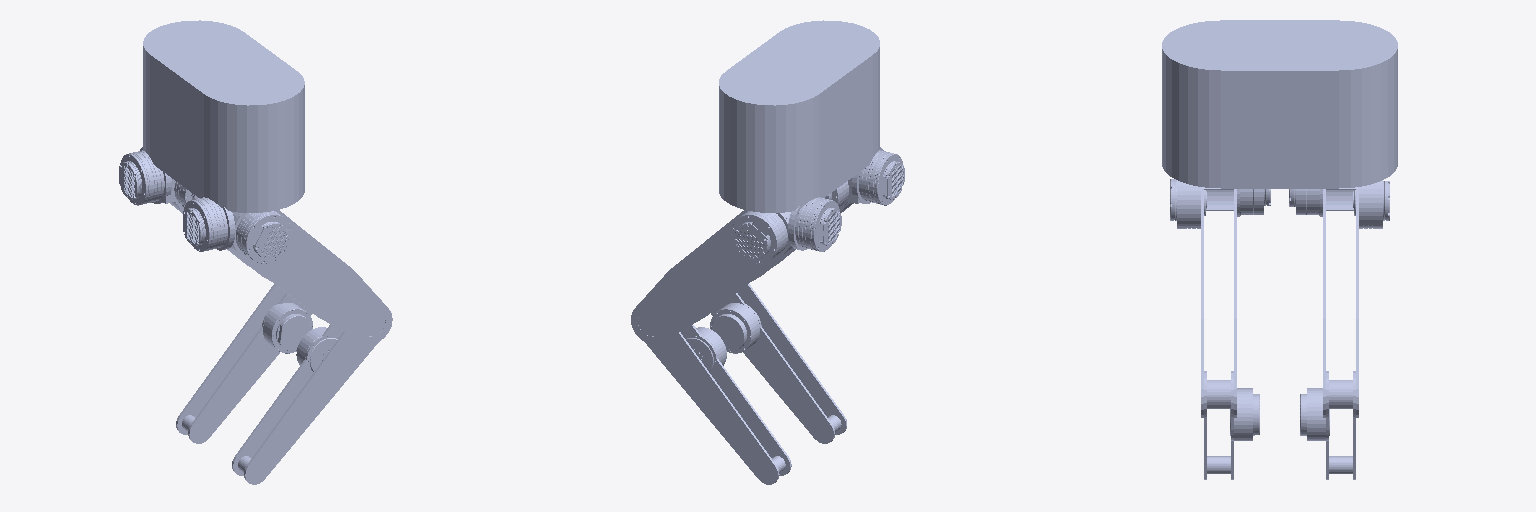
robot.urdf — hr:
<?xml version="1.0" encoding="utf-8"?>
<!-- This URDF was automatically created by SolidWorks to URDF Exporter! Originally created by [author] ([email redacted]) 
     Commit Version: 1.6.0-4-g7f85cfe  Build Version: 1.6.7995.38578
     For more information, please see http://wiki.ros.org/sw_urdf_exporter -->
<robot
  name="hr">
  <link
    name="base">
    <inertial>
      <origin
        xyz="-0.0044317 0.00063769 0.078449"
        rpy="0 0 0" />
      <mass
        value="13" />
      <inertia
        ixx="0.21138"
        ixy="2.665E-05"
        ixz="0.00060204"
        iyy="0.097207"
        iyz="-0.00098535"
        izz="0.20454" />
    </inertial>
    <visual>
      <origin
        xyz="0 0 0"
        rpy="0 0 0" />
      <geometry>
        <mesh
          filename="meshes/base.STL" />
      </geometry>
      <material
        name="">
        <color
          rgba="0.79216 0.81961 0.93333 1" />
      </material>
    </visual>
    <collision>
      <origin
        xyz="0 0 0.125"
        rpy="0 0 0" />
          <geometry>
              <box size="0.2 0.38 0.21"/>
          </geometry>
    </collision>
  </link>
  <link
    name="L_hip">
    <inertial>
      <origin
        xyz="-0.076147 -0.000144 -0.056058"
        rpy="0 0 0" />
      <mass
        value="1.5262" />
      <inertia
        ixx="0.004624"
        ixy="-1.063E-05"
        ixz="-0.0016518"
        iyy="0.0052931"
        iyz="-6.3E-06"
        izz="0.0033533" />
    </inertial>
    <visual>
      <origin
        xyz="0 0 0"
        rpy="0 0 0" />
      <geometry>
        <mesh
          filename="meshes/L_hip.STL" />
      </geometry>
      <material
        name="">
        <color
          rgba="0.79216 0.81961 0.93333 1" />
      </material>
    </visual>
    <!-- <collision>
      <origin
        xyz="0 0 0"
        rpy="0 0 0" />
      <geometry>
        <mesh
          filename="meshes/L_hip.STL" />
      </geometry>
    </collision> -->
  </link>
  <joint
    name="L_hip_joint"
    type="revolute">
    <origin
      xyz="-0.0053471 0.1175 -0.0067"
      rpy="0 0 0" />
    <parent
      link="base" />
    <child
      link="L_hip" />
    <axis
      xyz="0 0 1" />
    <limit
      lower="-1.5"
      upper="1.5"
      effort="300"
      velocity="50" />
  </joint>
  <link
    name="L_hip2">
    <inertial>
      <origin
        xyz="0.065812 -0.057927 -0.015122"
        rpy="0 0 0" />
      <mass
        value="1.33325" />
      <inertia
        ixx="0.00218586"
        ixy="0.00063143"
        ixz="0.00025969"
        iyy="0.00331254"
        iyz="-0.0001735"
        izz="0.00291067" />
    </inertial>
    <visual>
      <origin
        xyz="0 0 0"
        rpy="0 0 0" />
      <geometry>
        <mesh
          filename="meshes/L_hip2.STL" />
      </geometry>
      <material
        name="">
        <color
          rgba="0.79216 0.81961 0.93333 1" />
      </material>
    </visual>
    <!-- <collision>
      <origin
        xyz="0 0 0"
        rpy="0 0 0" />
      <geometry>
        <mesh
          filename="meshes/L_hip2.STL" />
      </geometry>
    </collision> -->
  </link>
  <joint
    name="L_hip2_joint"
    type="revolute">
    <origin
      xyz="-0.0763 0 -0.084"
      rpy="0 0 0" />
    <parent
      link="L_hip" />
    <child
      link="L_hip2" />
    <axis
      xyz="1 0 0" />
    <limit
      lower="-0.5"
      upper="0.65"
      effort="300"
      velocity="50" />
  </joint>
  <link
    name="L_thigh">
    <inertial>
      <origin
        xyz="-2.011E-05 0.019927 -0.086535"
        rpy="0 0 0" />
      <mass
        value="4.91" />
      <inertia
        ixx="0.078865"
        ixy="-3.8E-07"
        ixz="8.53E-06"
        iyy="0.079352"
        iyz="-0.0022097"
        izz="0.0098034" />
    </inertial>
    <visual>
      <origin
        xyz="0 0 0"
        rpy="0 0 0" />
      <geometry>
        <mesh
          filename="meshes/L_thigh.STL" />
      </geometry>
      <material
        name="">
        <color
          rgba="0.79216 0.81961 0.93333 1" />
      </material>
    </visual>
    <!-- <collision>
      <origin
        xyz="0 0 0"
        rpy="0 0 0" />
      <geometry>
        <mesh
          filename="meshes/L_thigh.STL" />
      </geometry>
    </collision> -->
  </link>
  <joint
    name="L_thigh_joint"
    type="revolute">
    <origin
      xyz="0.078 -0.014084 -0.0185"
      rpy="0 -0.785398163 0" />
    <parent
      link="L_hip2" />
    <child
      link="L_thigh" />
    <axis
      xyz="0 1 0" />
    <limit
      lower="-2.05"
      upper="0"
      effort="300"
      velocity="50" />
  </joint>
  <link
    name="L_calf">
    <inertial>
      <origin
        xyz="7.1556E-05 0.01631 -0.076065"
        rpy="0 0 0" />
      <mass
        value="1.5" />
      <inertia
        ixx="0.014852"
        ixy="-9E-08"
        ixz="-5.83E-06"
        iyy="0.01532"
        iyz="-5.33E-06"
        izz="0.001003" />
    </inertial>
    <visual>
      <origin
        xyz="0 0 0"
        rpy="0 0 0" />
      <geometry>
        <mesh
          filename="meshes/L_calf.STL" />
      </geometry>
      <material
        name="">
        <color
          rgba="0.79216 0.81961 0.93333 1" />
      </material>
    </visual>
    <!-- <collision>
      <origin
        xyz="0 0 0"
        rpy="0 0 0" />
      <geometry>
        <mesh
          filename="meshes/L_calf.STL" />
      </geometry>
    </collision> -->
  </link>
  <joint
    name="L_calf_joint"
    type="revolute">
    <origin
      xyz="0 0 -0.35"
      rpy="0 1.57079632679 0" />
    <parent
      link="L_thigh" />
    <child
      link="L_calf" />
    <axis
      xyz="0 1 0" />
    <limit
      lower="0"
      upper="2.1"
      effort="300"
      velocity="50" />
  </joint>
  <link
    name="L_toe">
    <inertial>
      <origin
        xyz="0.01468 0.015514 -0.035597"
        rpy="0 0 0" />
      <mass
        value="0.52014" />
      <inertia
        ixx="0.00014231"
        ixy="5.2E-07"
        ixz="2.557E-05"
        iyy="0.0016205"
        iyz="-5E-08"
        izz="0.0016853" />
    </inertial>
    <visual>
      <origin
        xyz="0 0 0"
        rpy="0 0 0" />
      <geometry>
        <mesh
          filename="meshes/L_toe.STL" />
      </geometry>
      <material
        name="">
        <color
          rgba="0.79216 0.81961 0.93333 1" />
      </material>
    </visual>
    <collision>
      <origin
        xyz="0 0 0"
        rpy="0 0 0" />
      <geometry>
        <mesh
          filename="meshes/L_toe.STL" />
      </geometry>
    </collision>
  </link>
  <joint
    name="L_toe_joint"
    type="revolute">
    <origin
      xyz="0 0 -0.35"
      rpy="0 -0.78539816339 0" />
    <parent
      link="L_calf" />
    <child
      link="L_toe" />
    <axis
      xyz="0 1 0" />
    <limit
      lower="-0.8"
      upper="0.8"
      effort="100"
      velocity="50" />
  </joint>
  <link name="L_end_effector">
    <visual>
      <origin xyz="0 0 0" rpy="0 0 0" />
      <geometry>
        <sphere radius="0.0001" />
      </geometry>
      <material name=""> 
        <color rgba="0 0 0 0" />
      </material>
    </visual>
  </link>
  <joint name="L_end_joint"
    type="fixed">
    <origin
      xyz="0 0 -0.049"
      rpy="0 0 0" />
    <parent
      link="L_toe" />
    <child
      link="L_end_effector" />
    <axis
      xyz="0 0 0" />
    <limit
      lower="0"
      upper="0"
      effort="0"
      velocity="0" />
  </joint>
  <link
    name="R_hip">
    <inertial>
      <origin
        xyz="-0.076147 -0.000144 -0.056058"
        rpy="0 0 0" />
      <mass
        value="1.5262" />
      <inertia
        ixx="0.004624"
        ixy="-1.063E-05"
        ixz="-0.0016518"
        iyy="0.0052931"
        iyz="-6.3E-06"
        izz="0.0033533" />
    </inertial>
    <visual>
      <origin
        xyz="0 0 0"
        rpy="0 0 0" />
      <geometry>
        <mesh
          filename="meshes/R_hip.STL" />
      </geometry>
      <material
        name="">
        <color
          rgba="0.79216 0.81961 0.93333 1" />
      </material>
    </visual>
    <!-- <collision>
      <origin
        xyz="0 0 0"
        rpy="0 0 0" />
      <geometry>
        <mesh
          filename="meshes/R_hip.STL" />
      </geometry>
    </collision> -->
  </link>
  <joint
    name="R_hip_joint"
    type="revolute">
    <origin
      xyz="-0.0053471 -0.1175 -0.0067"
      rpy="0 0 0" />
    <parent
      link="base" />
    <child
      link="R_hip" />
    <axis
      xyz="0 0 1" />
    <limit
      lower="-1.5"
      upper="1.5"
      effort="300"
      velocity="50" />
  </joint>
  <link
    name="R_hip2">
    <inertial>
      <origin
        xyz="0.065812 0.057927 -0.015122"
        rpy="0 0 0" />
      <mass
        value="1.33325" />
      <inertia
        ixx="0.00218586"
        ixy="-0.0006314"
        ixz="0.00026006"
        iyy="0.00331252"
        iyz="0.0001735"
        izz="0.00291066" />
    </inertial>
    <visual>
      <origin
        xyz="0 0 0"
        rpy="0 0 0" />
      <geometry>
        <mesh
          filename="meshes/R_hip2.STL" />
      </geometry>
      <material
        name="">
        <color
          rgba="0.79216 0.81961 0.93333 1" />
      </material>
    </visual>
    <!-- <collision>
      <origin
        xyz="0 0 0"
        rpy="0 0 0" />
      <geometry>
        <mesh
          filename="meshes/R_hip2.STL" />
      </geometry>
    </collision> -->
  </link>
  <joint
    name="R_hip2_joint"
    type="revolute">
    <origin
      xyz="-0.0763 0 -0.084"
      rpy="0 0 0" />
    <parent
      link="R_hip" />
    <child
      link="R_hip2" />
    <axis
      xyz="1 0 0" />
    <limit
      lower="-0.65"
      upper="0.5"
      effort="300"
      velocity="50" />
  </joint>
  <link
    name="R_thigh">
    <inertial>
      <origin
        xyz="2.011E-05 -0.019927 -0.086535"
        rpy="0 0 0" />
      <mass
        value="4.91" />
      <inertia
        ixx="0.07886454"
        ixy="-3.8E-07"
        ixz="-8.53E-06"
        iyy="0.07935199"
        iyz="0.00220965"
        izz="0.00980338" />
    </inertial>
    <visual>
      <origin
        xyz="0 0 0"
        rpy="0 0 0" />
      <geometry>
        <mesh
          filename="meshes/R_thigh.STL" />
      </geometry>
      <material
        name="">
        <color
          rgba="0.79216 0.81961 0.93333 1" />
      </material>
    </visual>
    <!-- <collision>
      <origin
        xyz="0 0 0"
        rpy="0 0 0" />
      <geometry>
        <mesh
          filename="meshes/R_thigh.STL" />
      </geometry>
    </collision> -->
  </link>
  <joint
    name="R_thigh_joint"
    type="revolute">
    <origin
      xyz="0.078 0.014084 -0.0185"
      rpy="0 -0.785398163 0" />
    <parent
      link="R_hip2" />
    <child
      link="R_thigh" />
    <axis
      xyz="0 1 0" />
    <limit
      lower="-2.05"
      upper="0"
      effort="300"
      velocity="50" />
  </joint>
  <link
    name="R_calf">
    <inertial>
      <origin
        xyz="-7.1556E-05 -0.01631 -0.076065"
        rpy="0 0 0" />
      <mass
        value="1.5" />
      <inertia
        ixx="0.014852"
        ixy="-9E-08"
        ixz="5.83E-06"
        iyy="0.01532"
        iyz="5.33E-06"
        izz="0.001003" />
    </inertial>
    <visual>
      <origin
        xyz="0 0 0"
        rpy="0 0 0" />
      <geometry>
        <mesh
          filename="meshes/R_calf.STL" />
      </geometry>
      <material
        name="">
        <color
          rgba="0.79216 0.81961 0.93333 1" />
      </material>
    </visual>
    <!-- <collision>
      <origin
        xyz="0 0 0"
        rpy="0 0 0" />
      <geometry>
        <mesh
          filename="meshes/R_calf.STL" />
      </geometry>
    </collision> -->
  </link>
  <joint
    name="R_calf_joint"
    type="revolute">
    <origin
      xyz="0 0 -0.35"
      rpy="0 1.57079632679 0" />
    <parent
      link="R_thigh" />
    <child
      link="R_calf" />
    <axis
      xyz="0 1 0" />
    <limit
      lower="0"
      upper="2.1"
      effort="300"
      velocity="50" />
  </joint>
  <link
    name="R_toe">
    <inertial>
      <origin
        xyz="0.01468 -0.015514 -0.035597"
        rpy="0 0 0" />
      <mass
        value="0.52014" />
      <inertia
        ixx="0.00014231"
        ixy="5.2E-07"
        ixz="2.557E-05"
        iyy="0.0016205"
        iyz="-5E-08"
        izz="0.0016853" />
    </inertial>
    <visual>
      <origin
        xyz="0 0 0"
        rpy="0 0 0" />
      <geometry>
        <mesh
          filename="meshes/R_toe.STL" />
      </geometry>
      <material
        name="">
        <color
          rgba="0.79216 0.81961 0.93333 1" />
      </material>
    </visual>
    <collision>
      <origin
        xyz="0 0 0"
        rpy="0 0 0" />
      <geometry>
        <mesh
          filename="meshes/R_toe.STL" />
      </geometry>
    </collision>
  </link>
  <joint
    name="R_toe_joint"
    type="revolute">
    <origin
      xyz="0 0 -0.35"
      rpy="0 -0.78539816339 0" />
    <parent
      link="R_calf" />
    <child
      link="R_toe" />
    <axis
      xyz="0 1 0" />
    <limit
      lower="-0.8"
      upper="0.8"
      effort="100"
      velocity="50" />
  </joint>
  <link name="R_end_effector">
    <visual>
      <origin xyz="0 0 0" rpy="0 0 0" />
      <geometry>
        <sphere radius="0.0001" />
      </geometry>
      <material name=""> 
        <color rgba="0 0 0 0" />
      </material>
    </visual>
  </link>
  <joint name="R_end_joint"
    type="fixed">
    <origin
      xyz="0 0 -0.049"
      rpy="0 0 0" />
    <parent
      link="R_toe" />
    <child
      link="R_end_effector" />
    <axis
      xyz="0 0 0" />
    <limit
      lower="0"
      upper="0"
      effort="0"
      velocity="0" />
  </joint>
</robot>

--- Facts derived from the render (not from the file) ---
Views: 3 orthographic renders of the robot side by side, from view 1: azimuth 30°, elevation 25°; view 2: azimuth 150°, elevation 25°; view 3: azimuth 270°, elevation 25°.
Model hr with 13 links and 12 joints (10 revolute, 2 fixed), rooted at base, posed all joints at 0.
Visible links, largest first — view 1: base, R_thigh, R_calf, L_calf, R_hip, L_hip; view 2: base, L_thigh, L_calf, R_calf, L_hip, R_hip; view 3: base, R_thigh, L_thigh, L_calf, R_calf, L_hip2, R_hip2.
Link boxes in pixels (x1=…): base: x1=143, y1=20, x2=304, y2=212; R_thigh: x1=231, y1=210, x2=392, y2=343; R_calf: x1=232, y1=324, x2=378, y2=484; L_calf: x1=176, y1=284, x2=312, y2=443; R_hip: x1=183, y1=197, x2=234, y2=251; L_hip: x1=119, y1=147, x2=171, y2=205; base: x1=719, y1=20, x2=879, y2=212; L_thigh: x1=631, y1=210, x2=792, y2=343; L_calf: x1=645, y1=325, x2=791, y2=484; R_calf: x1=710, y1=284, x2=846, y2=443; L_hip: x1=788, y1=197, x2=841, y2=251; R_hip: x1=851, y1=147, x2=904, y2=205; base: x1=1162, y1=20, x2=1397, y2=188; R_thigh: x1=1170, y1=179, x2=1240, y2=417; L_thigh: x1=1319, y1=180, x2=1389, y2=417; L_calf: x1=1300, y1=371, x2=1355, y2=479; R_calf: x1=1204, y1=371, x2=1259, y2=479; L_hip2: x1=1289, y1=189, x2=1322, y2=216; R_hip2: x1=1237, y1=189, x2=1270, y2=216.
Bounding box of the posed robot: 0.4222 × 0.4 × 0.8333 m (x, y, z).
Meshes: 11 distinct files referenced, 9 mesh visuals loaded (9 binary STL); not drawn: 2 (reference not matched to a file when rendering).
